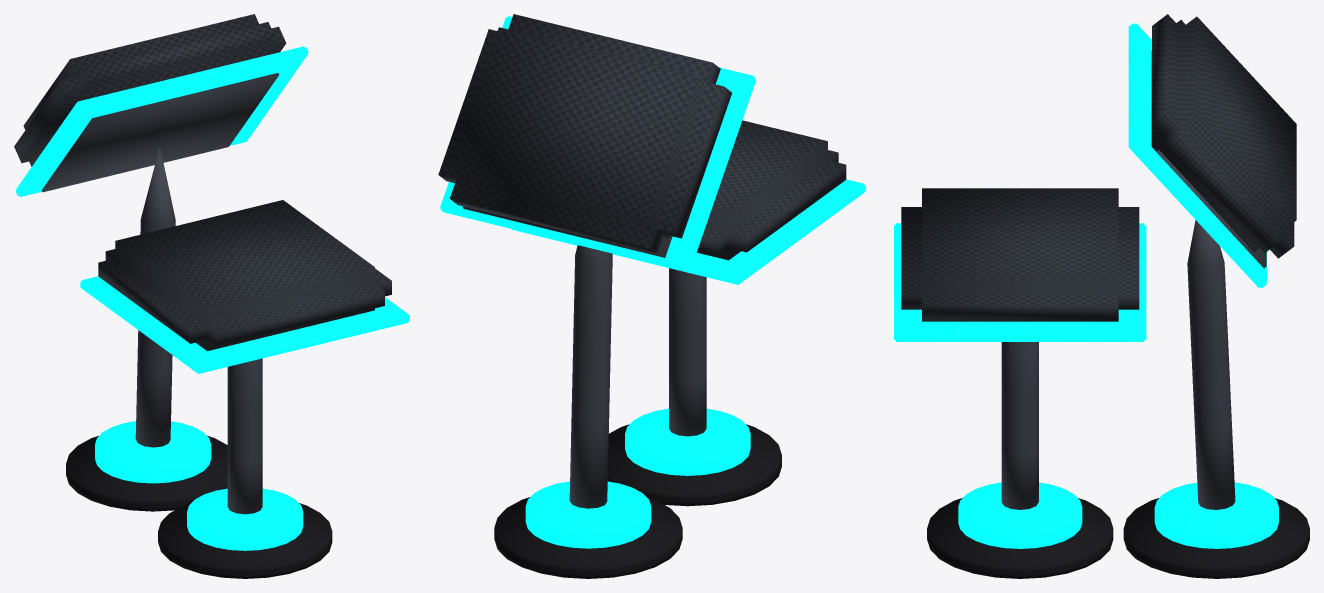
File: CyberBench.glb
The picture shows the model from 3 angles, left to right: view 1: azimuth 30°, elevation 25°; view 2: azimuth 150°, elevation 25°; view 3: azimuth 270°, elevation 25°; orthographic projection. The views are drawn at different scales.
Parts seen in each view (by area): view 1: CyberBench, CyberBench_Glow; view 2: CyberBench, CyberBench_Glow; view 3: CyberBench, CyberBench_Glow.
Boxes of the visible parts, <box> form: CyberBench: <box>14,14,391,578</box>; CyberBench_Glow: <box>15,46,409,550</box>; CyberBench: <box>438,14,846,578</box>; CyberBench_Glow: <box>440,16,865,548</box>; CyberBench: <box>901,14,1309,578</box>; CyberBench_Glow: <box>894,23,1278,548</box>.
Size of the model in its own units: 1.37 by 2.55 by 2.01.
2 materials, 1 textured.
